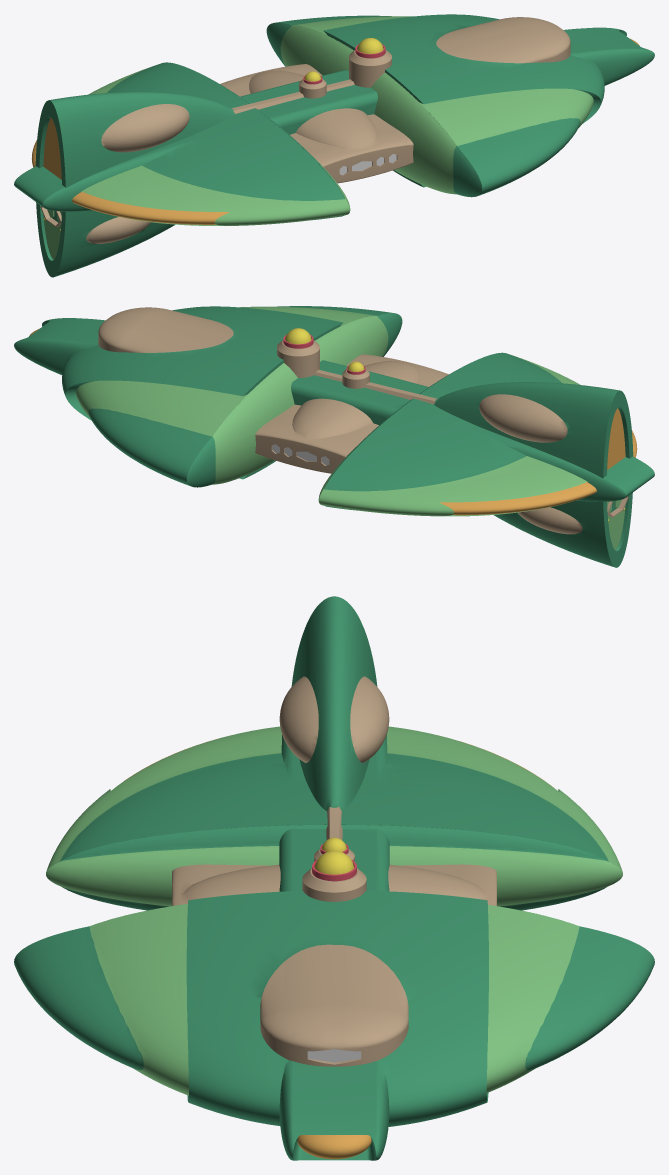
The model's file is kre-sparrowhawk.glb.
3 renders of one model, top to bottom at view 1: azimuth 30°, elevation 25°; view 2: azimuth 150°, elevation 25°; view 3: azimuth 270°, elevation 25°, orthographic. The views are drawn at different scales.
Visible parts, largest first — view 1: Sparrowhawk current hull - authored COLOR_0 regions; view 2: Sparrowhawk current hull - authored COLOR_0 regions; view 3: Sparrowhawk current hull - authored COLOR_0 regions.
Part boxes in pixels (x1,y1,x2,y2): Sparrowhawk current hull - authored COLOR_0 regions: (14,14,654,277); Sparrowhawk current hull - authored COLOR_0 regions: (14,306,654,567); Sparrowhawk current hull - authored COLOR_0 regions: (14,596,654,1160).
Bounding box in the file's own units: 5.43 × 1.49 × 3.31.
